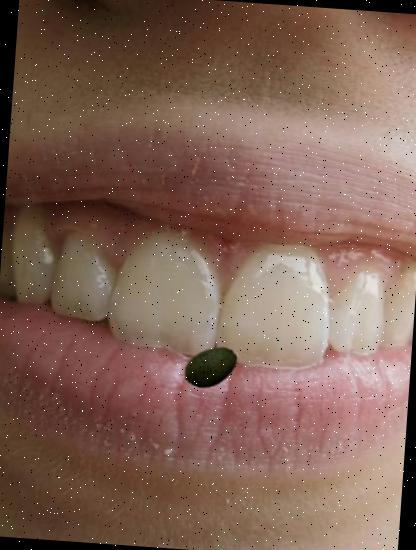Avocado: (181, 338, 240, 398)
